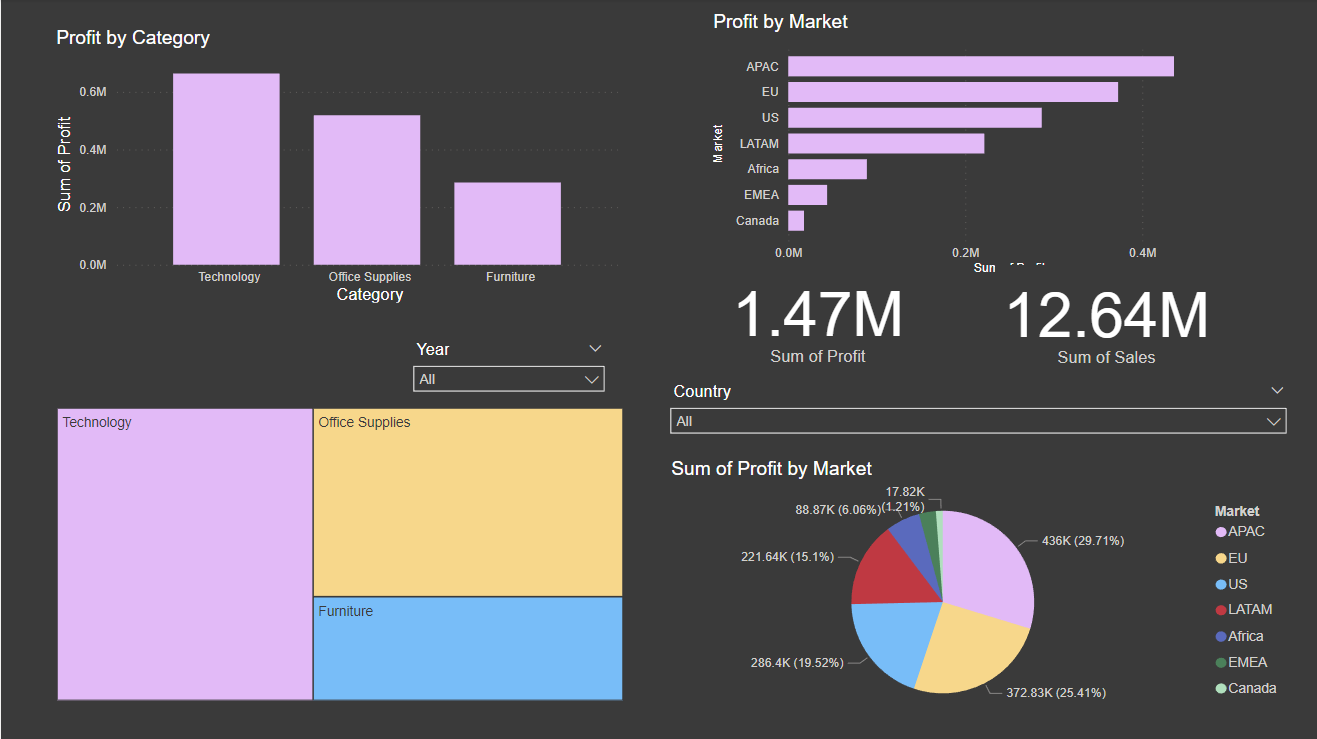

Layout of this report page (visuals, bound fields, positions):
{"tool":"powerbi","page":{"name":"Profit","canvas":[1280,720],"ordinal":0},"visuals":[{"type":"pieChart","fields":{"Category":["Global-Superstore.Market"],"Y":["Sum(Global-Superstore.Profit)"]},"box":[646.3,446.1,607.4,259.5],"z":0},{"type":"slicer","fields":{"Values":["Global-Superstore.Country"]},"box":[640.5,367.4,619.1,78.7],"z":1000},{"type":"treemap","title":"Profit by Category","fields":{"Group":["Global-Superstore.Category"],"Values":["Sum(Global-Superstore.Profit)"]},"box":[49.6,392.6,559.8,293.5],"z":2000},{"type":"barChart","title":"Profit by Market","fields":{"Category":["Global-Superstore.Market"],"Y":["Sum(Global-Superstore.Profit)"]},"box":[687.1,11.7,526.8,262.4],"z":3000},{"type":"card","fields":{"Values":["Sum(Global-Superstore.Profit)"]},"box":[678.4,261.4,231.3,98.2],"z":4000},{"type":"card","fields":{"Values":["Sum(Global-Superstore.Sales)"]},"box":[966.1,258.5,216.7,105],"z":5000},{"type":"slicer","title":"Year","fields":{"Values":["Global-Superstore.YearColumn"]},"box":[390.7,326.6,206,66.1],"z":6000},{"type":"columnChart","title":"Profit by Category","fields":{"Y":["Sum(Global-Superstore.Profit)"],"Category":["Global-Superstore.Category"]},"box":[48.6,27.2,560.8,273.1],"z":7000}]}

Visuals, with their boxes in screenshot pixels (x1, y1, x2, y2), scaled from the page's 1280x720 canvas onto the 1317x739 screenshot:
pieChart - Global-Superstore.Market x Sum(Global-Superstore.Profit): bbox=(665, 458, 1290, 724)
slicer - Global-Superstore.Country: bbox=(659, 377, 1296, 458)
"Profit by Category" treemap: bbox=(51, 403, 627, 704)
"Profit by Market" barChart: bbox=(707, 12, 1249, 281)
card - Sum(Global-Superstore.Profit): bbox=(698, 268, 936, 369)
card - Sum(Global-Superstore.Sales): bbox=(994, 265, 1217, 373)
"Year" slicer: bbox=(402, 335, 614, 403)
"Profit by Category" columnChart: bbox=(50, 28, 627, 308)
